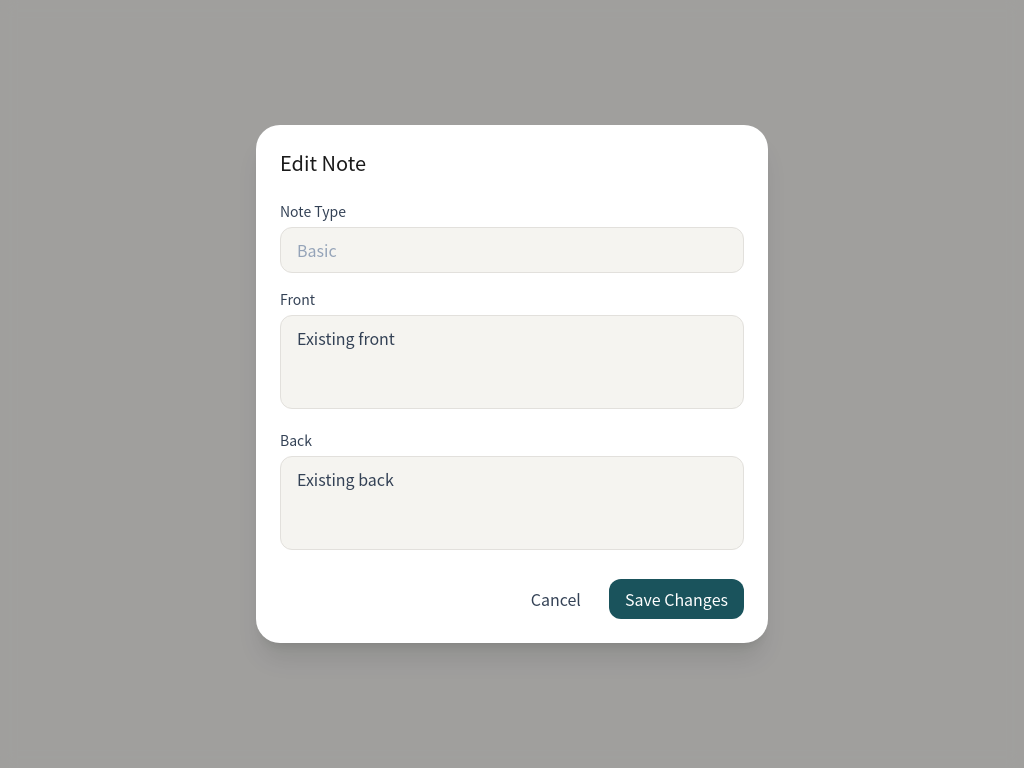
Test: EditNoteModal › displays a generic error when the local write fails
Expected: the text box labelled "Front" is shown, [280,315,744,409]
What coordinates should you click on to do the following:
click the button "Save Changes"
I would click on:
 (676, 599)
Its box is [609,579,744,619].
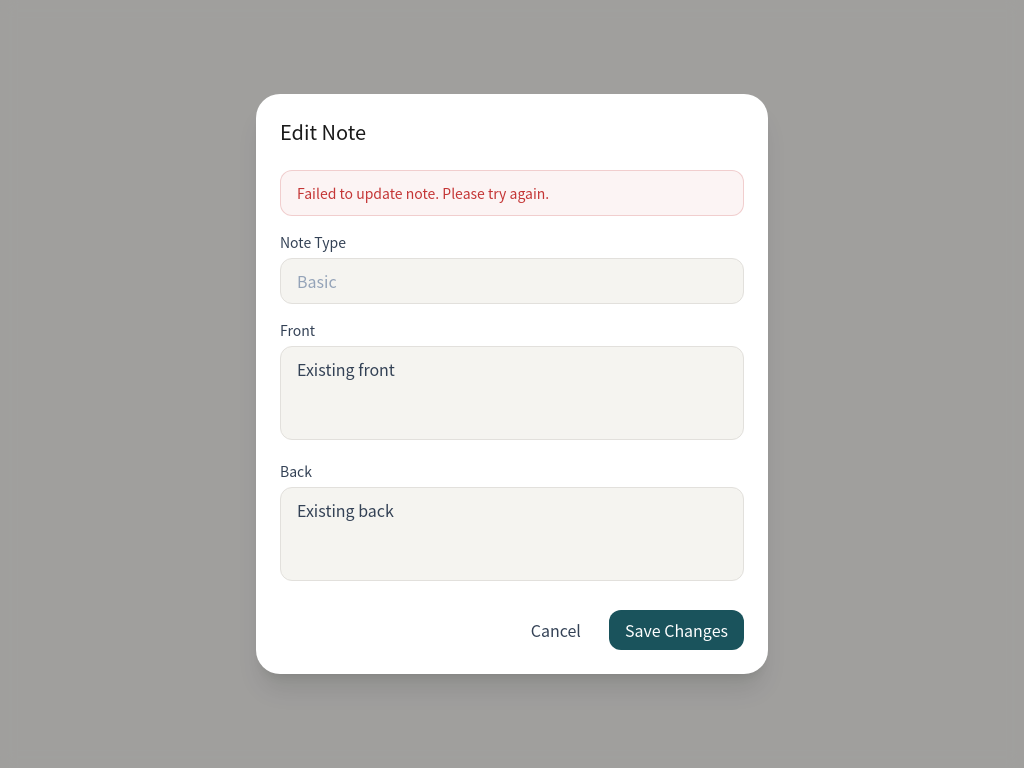
Now the message reads "Failed to update note. Please try again.", box [297,183,549,203]
